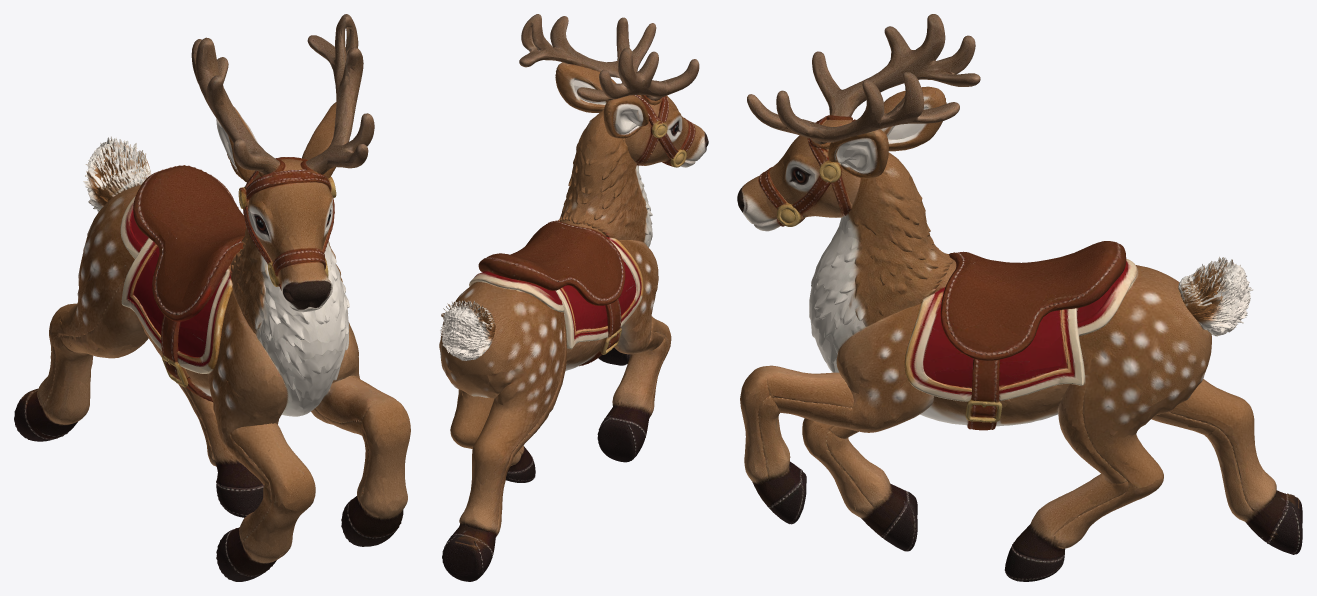
Rendered from stag.glb.
3 renders of one model, left to right at view 1: azimuth 30°, elevation 25°; view 2: azimuth 150°, elevation 25°; view 3: azimuth 270°, elevation 25°, orthographic. The views are drawn at different scales.
Size of the model in its own units: 0.6294 by 1.9 by 1.84.
1 material, 1 textured.
